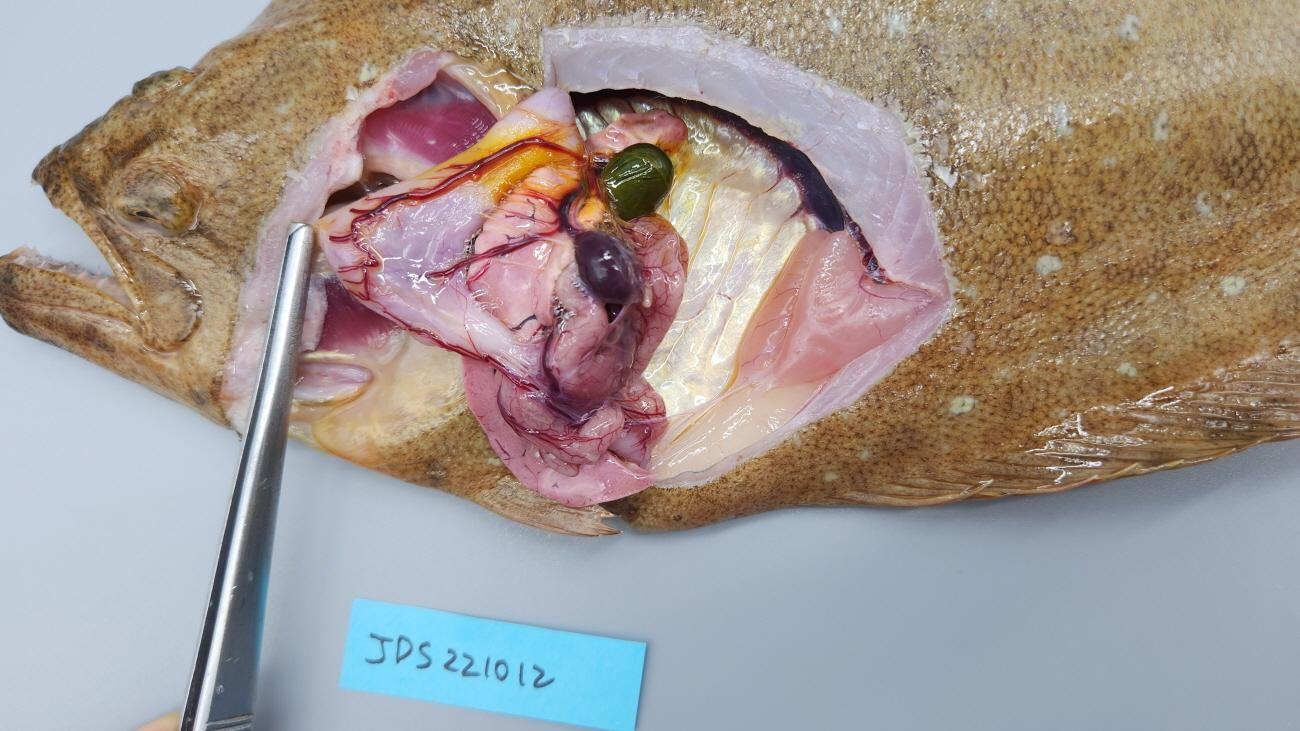POINN: (502, 214, 689, 476)
POSPN: (574, 231, 645, 324)
